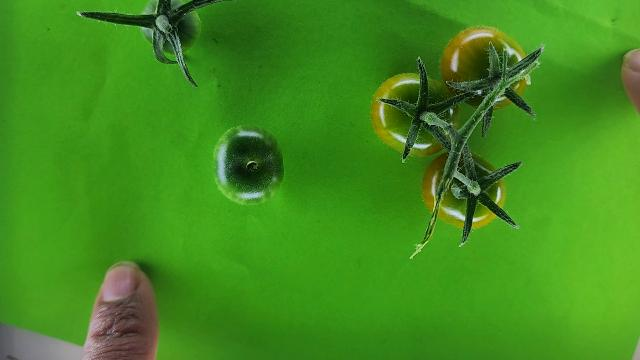Fruit Maturation: (213, 125, 285, 205)
Fully Grown: (369, 71, 458, 157), (439, 27, 529, 111), (420, 152, 506, 230)
